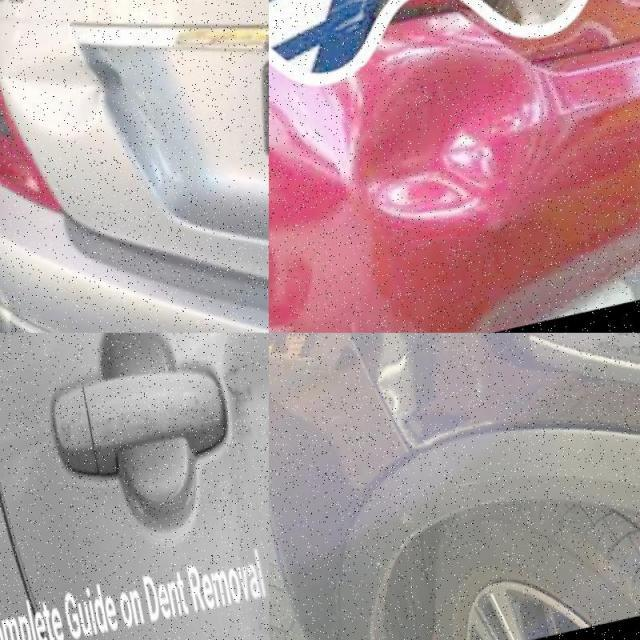car damage: (346, 32, 546, 220), (374, 329, 558, 454), (87, 40, 209, 202), (8, 34, 125, 141), (386, 0, 471, 50)
